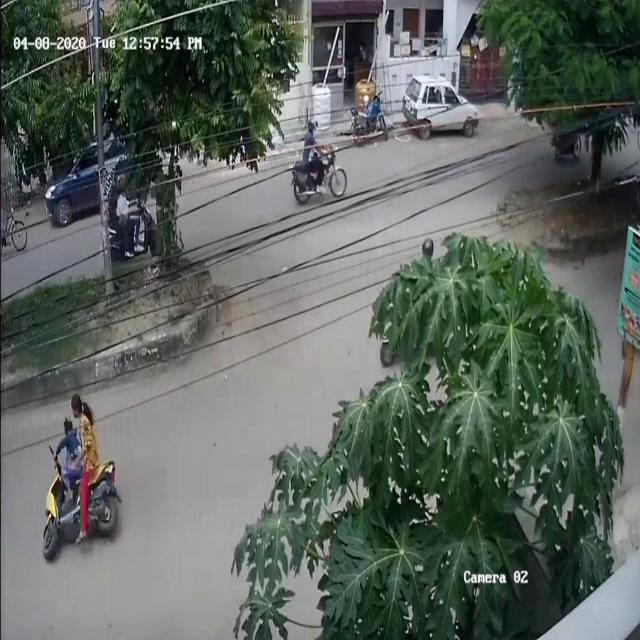accident: (29, 387, 128, 574)
